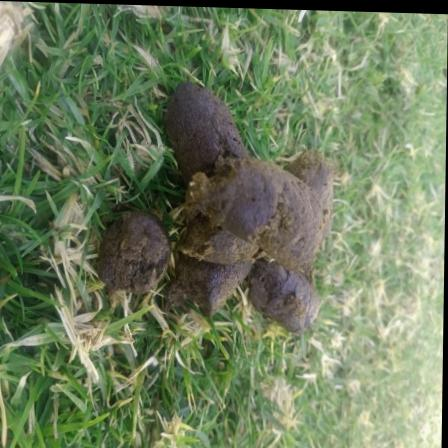dog-poop: (108, 68, 343, 351)
